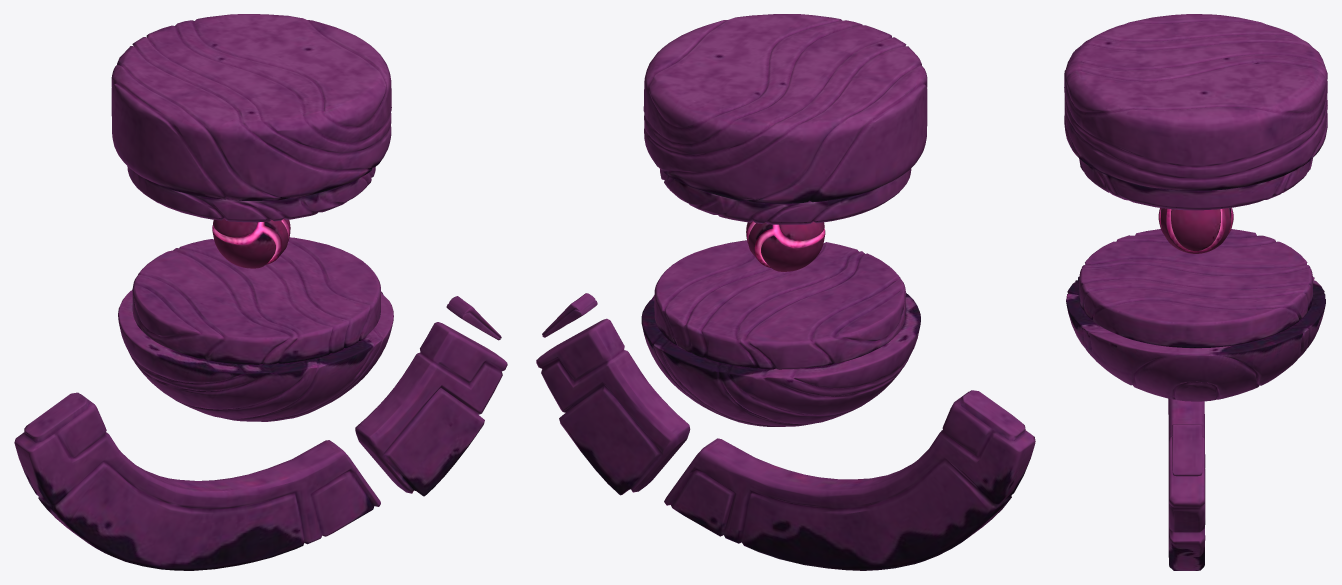
Rendered from sky_shrine_d_chaos_v35.glb.
The picture shows the model from 3 angles, left to right: view 1: azimuth 30°, elevation 25°; view 2: azimuth 150°, elevation 25°; view 3: azimuth 270°, elevation 25°; orthographic projection. The views are drawn at different scales.
Visible parts, largest first — view 1: shrine_d; view 2: shrine_d; view 3: shrine_d.
Part boxes in pixels (left/top/right/bottom): shrine_d: left=14, top=14, right=507, bottom=570; shrine_d: left=536, top=14, right=1035, bottom=570; shrine_d: left=1064, top=14, right=1327, bottom=570.
Size of the model in its own units: 3.73 by 3.59 by 1.89.
1 material, 1 textured.
